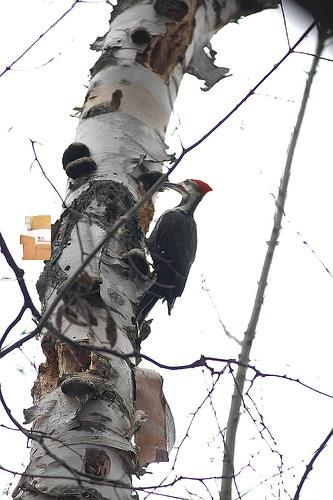tampered: (21, 216, 51, 260)
